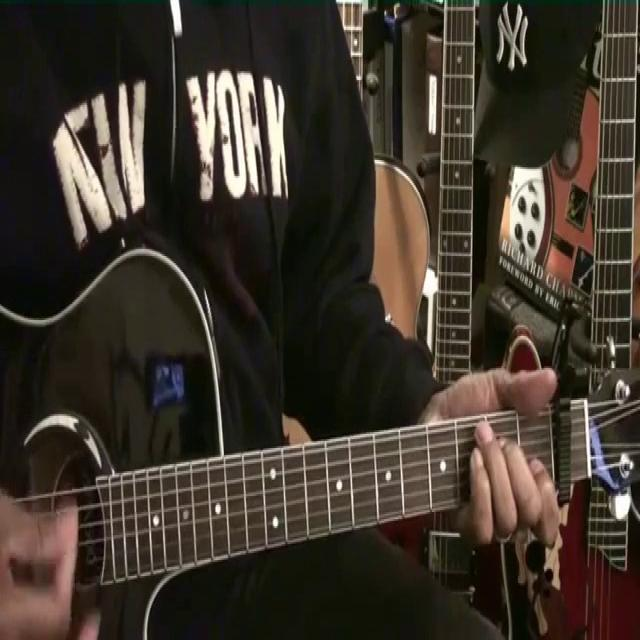Guitar: (2, 200, 640, 638)
